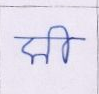i_matra: (49, 25, 74, 63)
